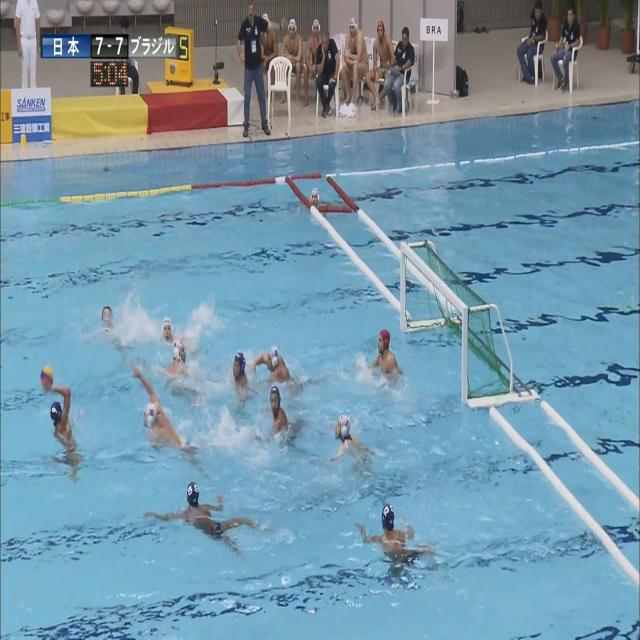ball: (41, 366, 53, 389)
